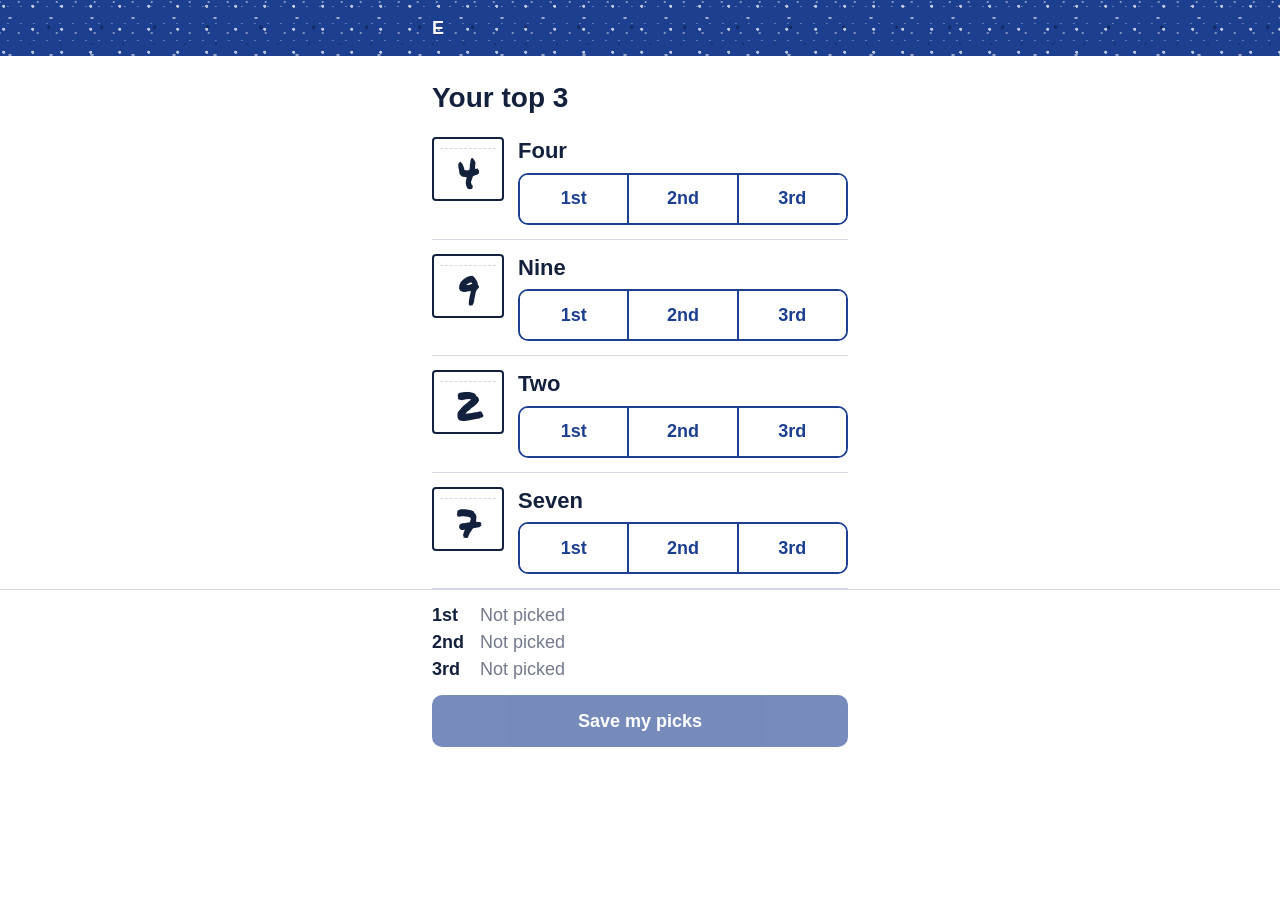
Test case: ballot screen › keeps pending when the save fails with network
The width and height of the screenshot is (1280, 900).
Expected: the picture named "Pot 4" is shown, [456,145,480,193]
What coordinates should you click on to do the following:
click the button "1st" below "Four"
I would click on:
 (575, 198)
Its box is [520,174,629,222].
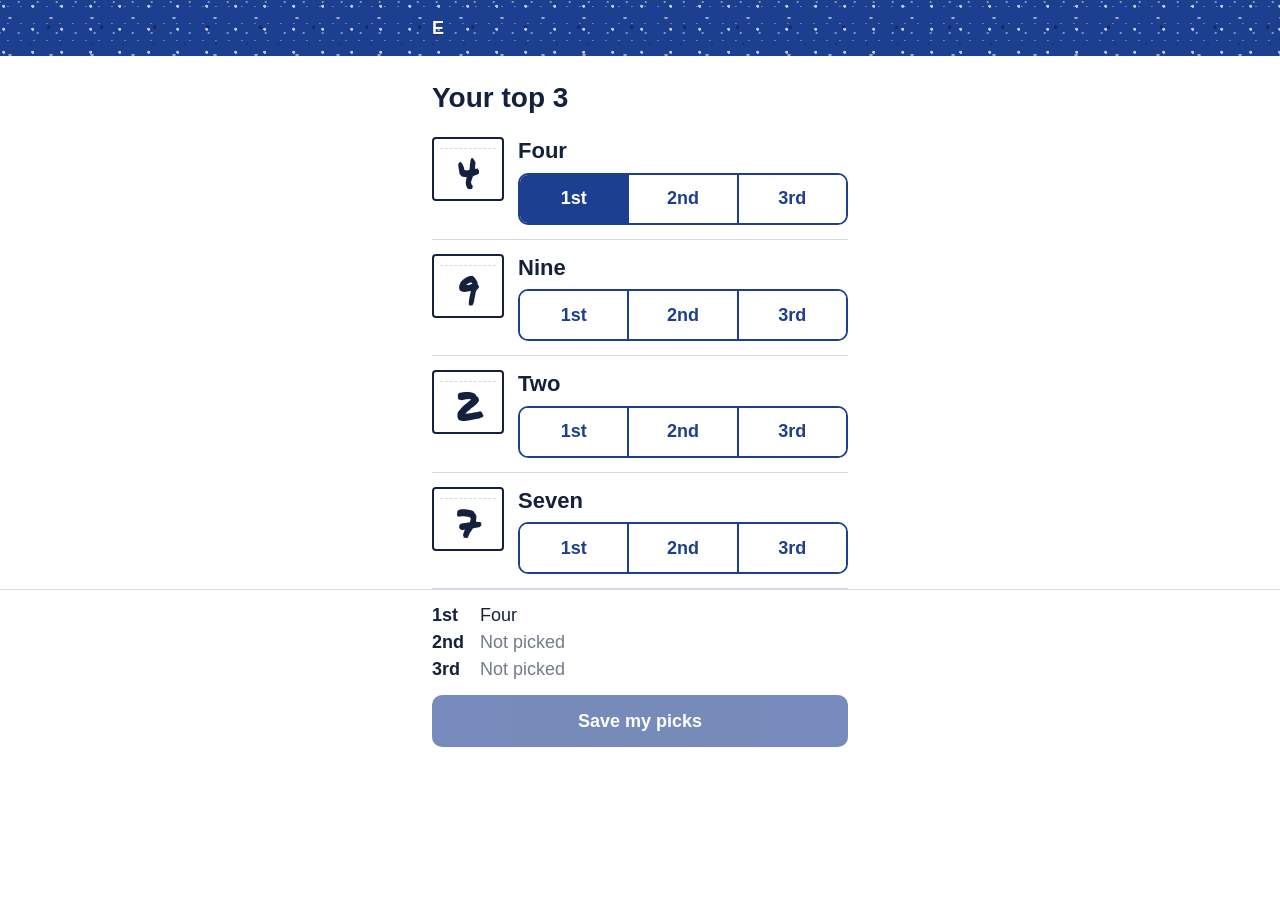
What coordinates should you click on to do the following:
click the button "2nd" below "Nine"
I would click on:
 (684, 315)
Its box is [629,291,739,339].
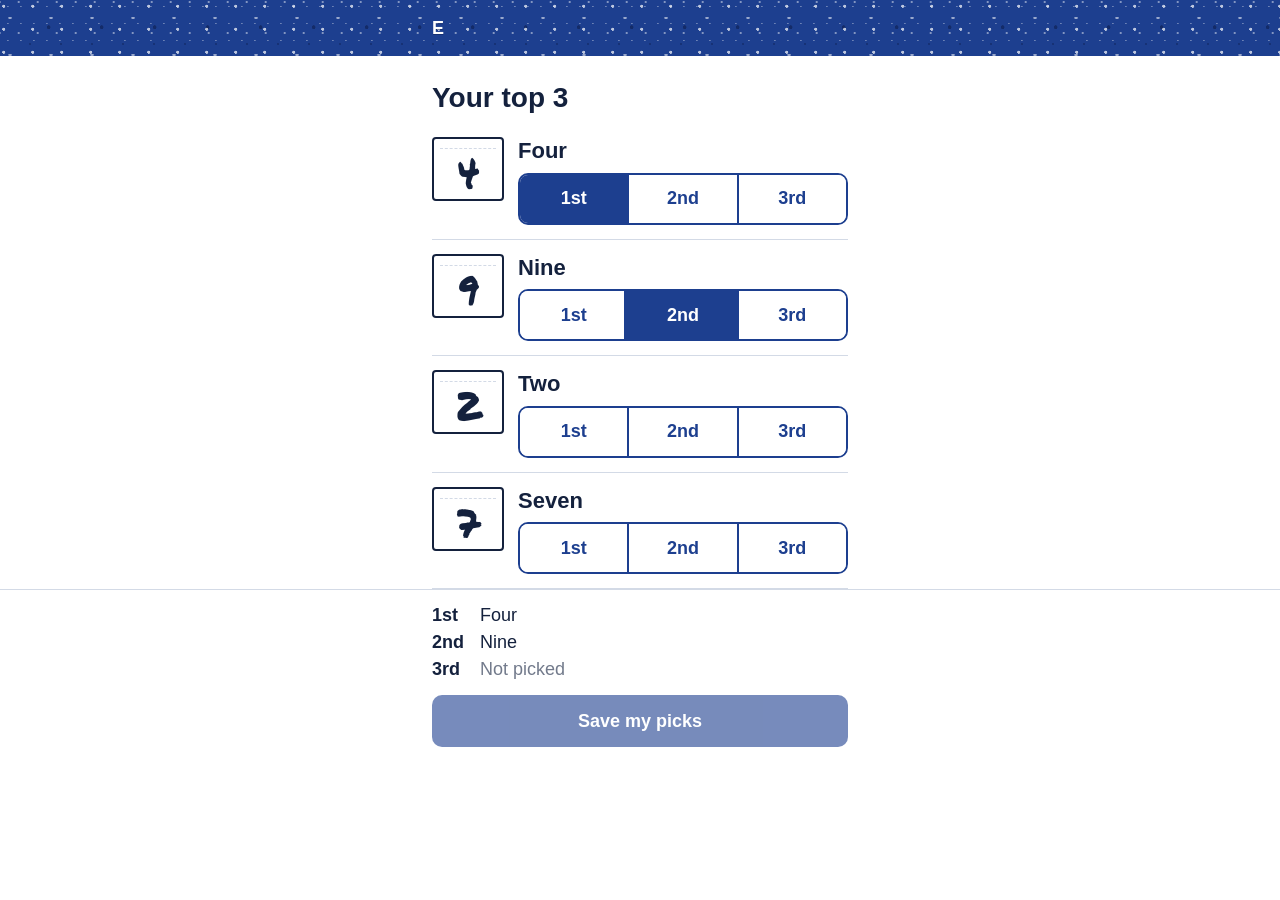
What coordinates should you click on to do the following:
click the button "3rd" below "Two"
I would click on:
 (792, 432)
Its box is [739,408,846,456].
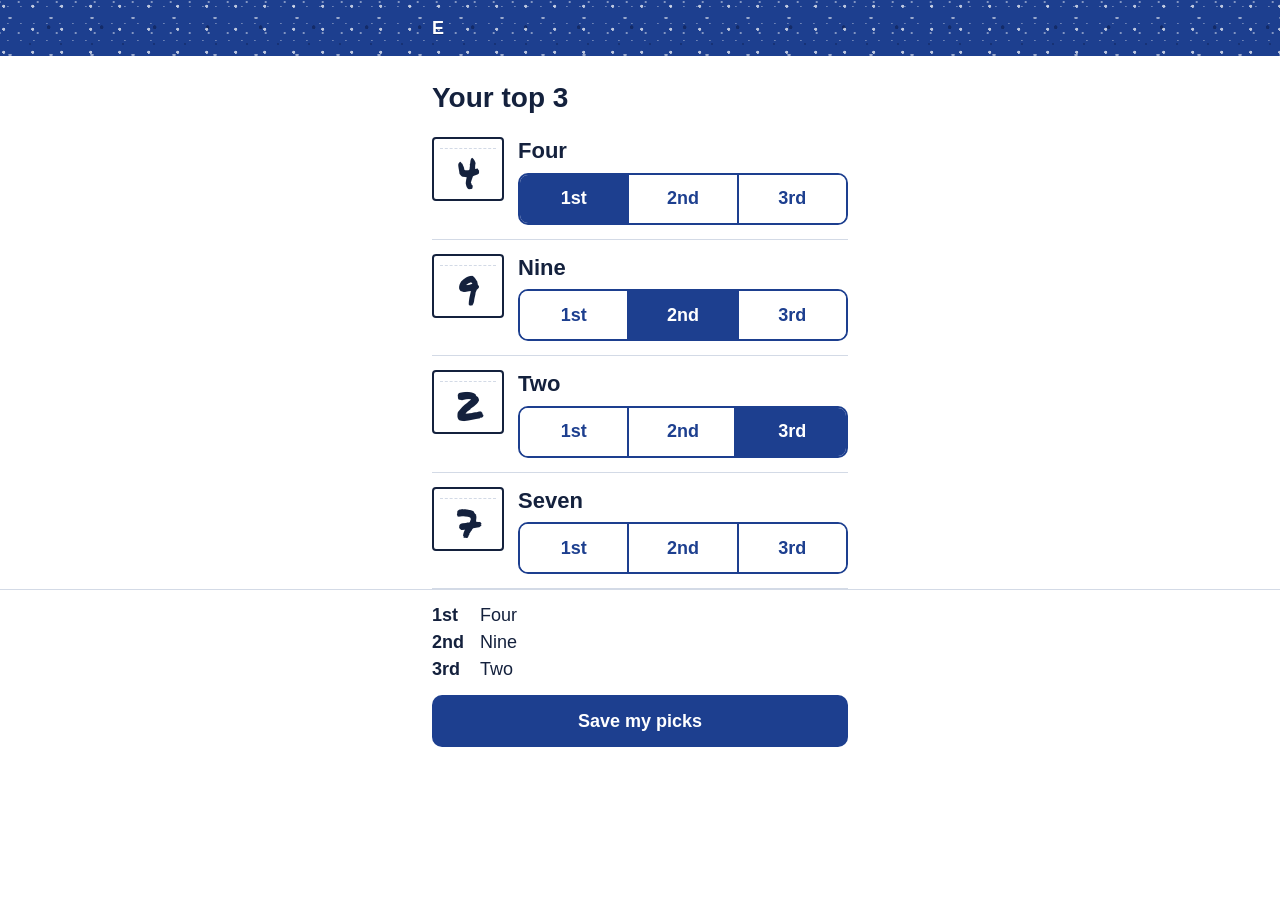
What coordinates should you click on to do the following:
click the button "Save my picks"
I would click on:
 (640, 721)
Its box is [432,695,848,747].
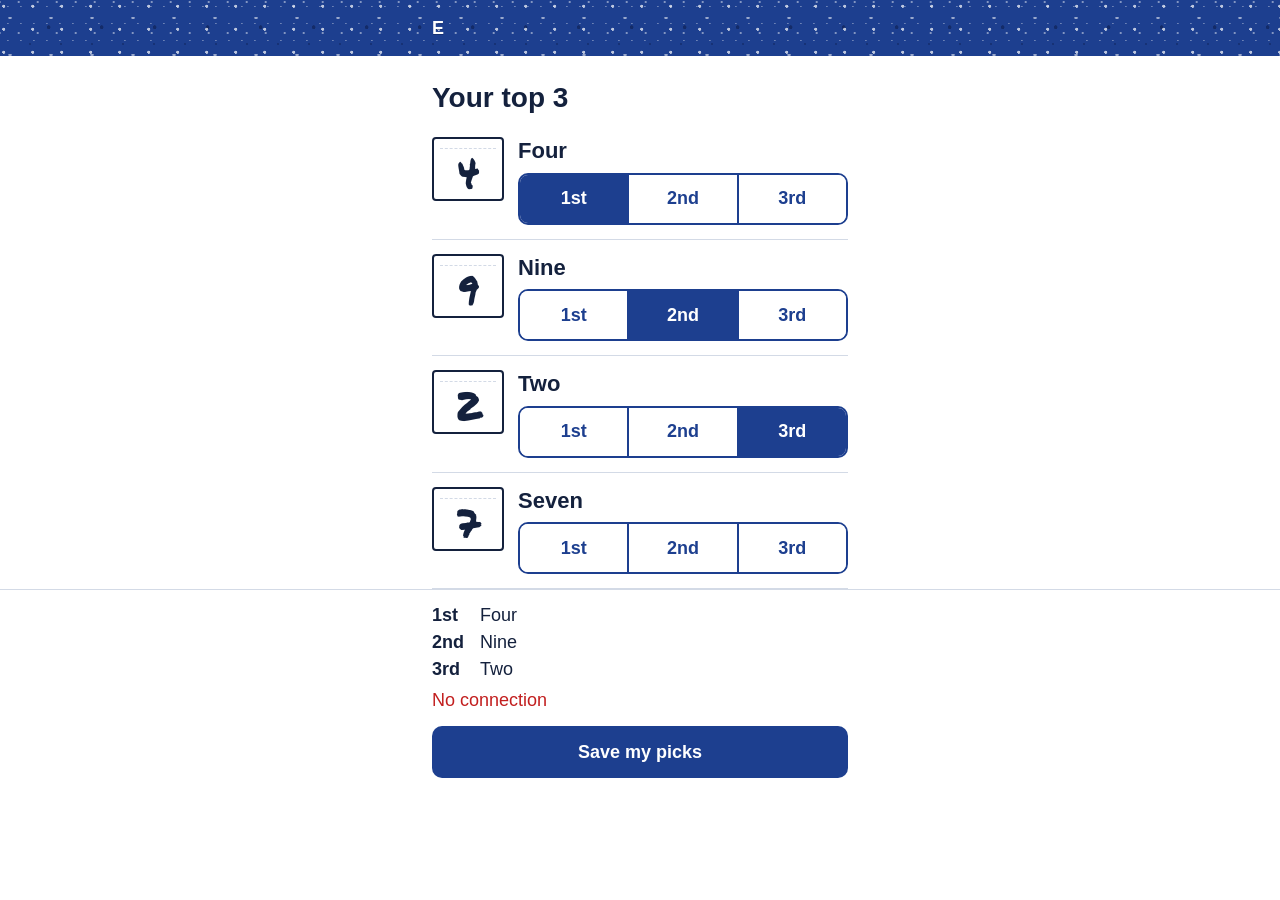
Expected: the text "No connection" is shown, [432,690,547,710]
